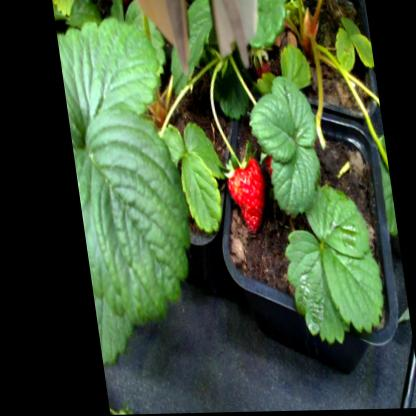ripe: (211, 161, 270, 237), (254, 132, 292, 183)
unripe: (198, 75, 204, 77)
